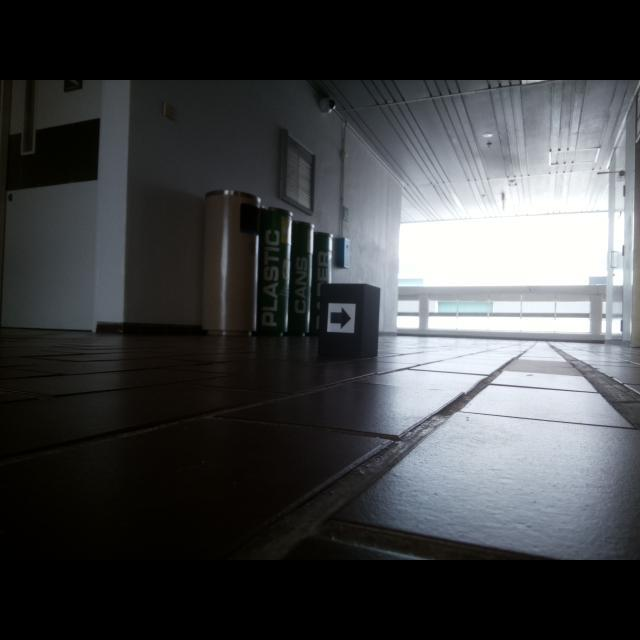RIGHT: (330, 306, 352, 331)
